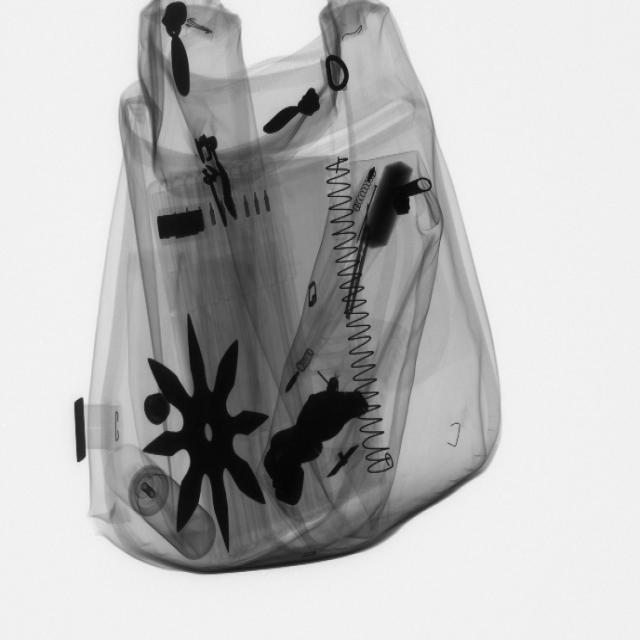BLADE: (348, 228, 373, 324)
SHURIKEN: (143, 313, 272, 553)
